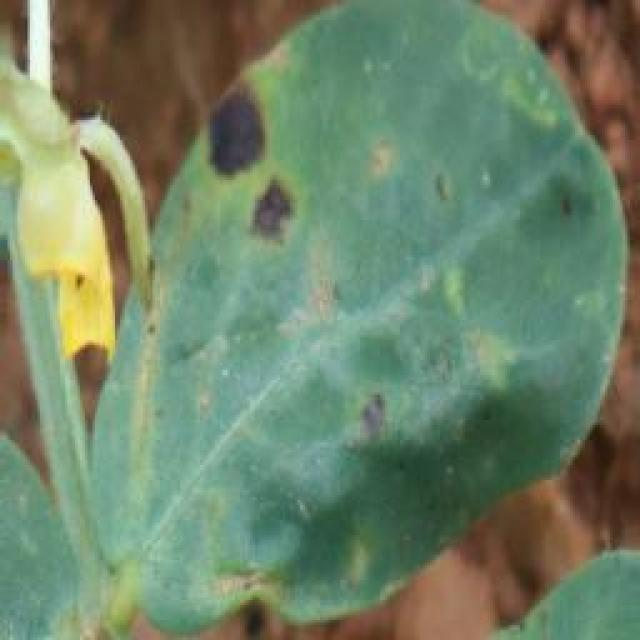Yellowish: (44, 7, 558, 584)
